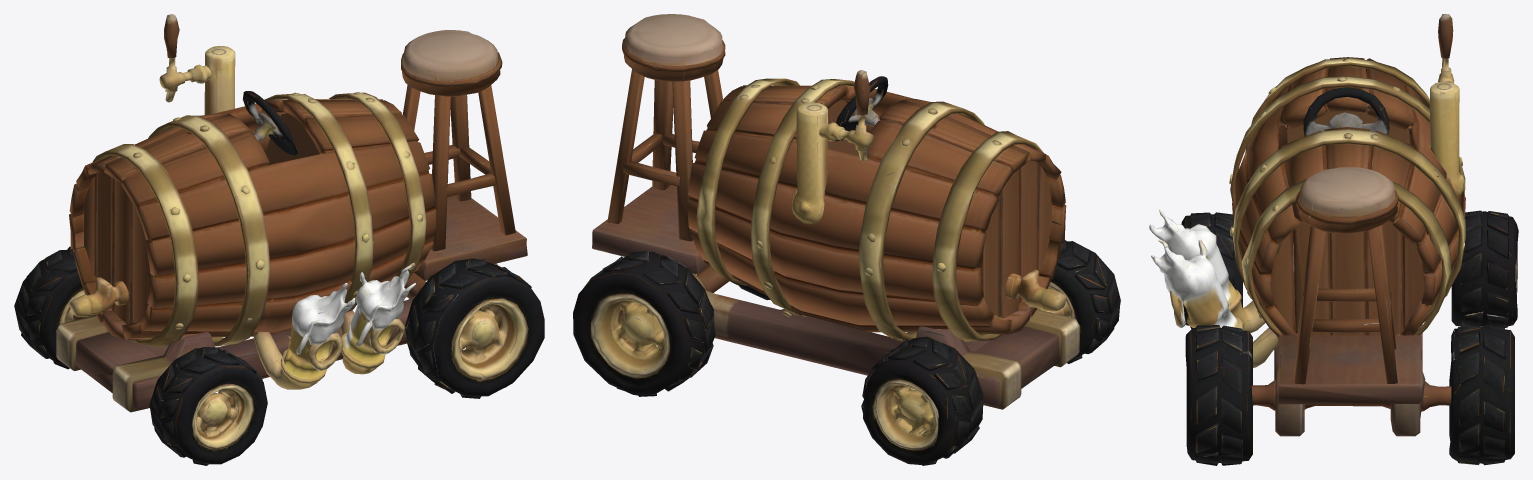
Rendered from barrel_roadster.glb.
3 renders of one model, left to right at view 1: azimuth 30°, elevation 25°; view 2: azimuth 150°, elevation 25°; view 3: azimuth 270°, elevation 25°, orthographic. The views are drawn at different scales.
Size of the model in its own units: 0.9565 by 0.7427 by 0.7109.
1 material, 1 textured.
